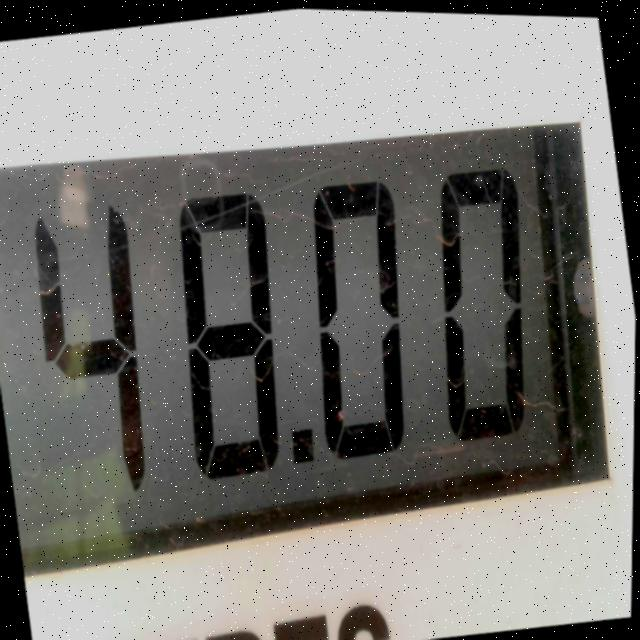.: (276, 414, 333, 492)
0: (288, 154, 438, 480), (411, 147, 559, 456)
4: (5, 172, 189, 527)
8: (149, 167, 302, 501)
